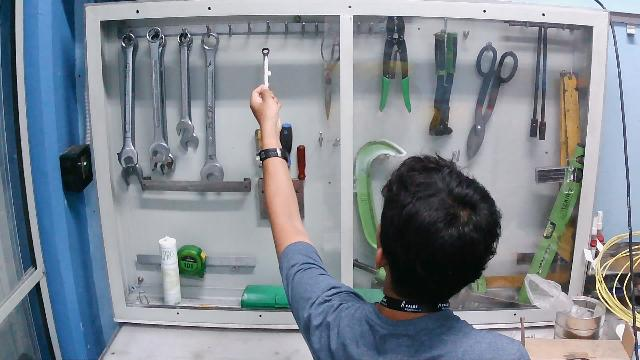kunci_pass_13: (241, 18, 287, 126)
